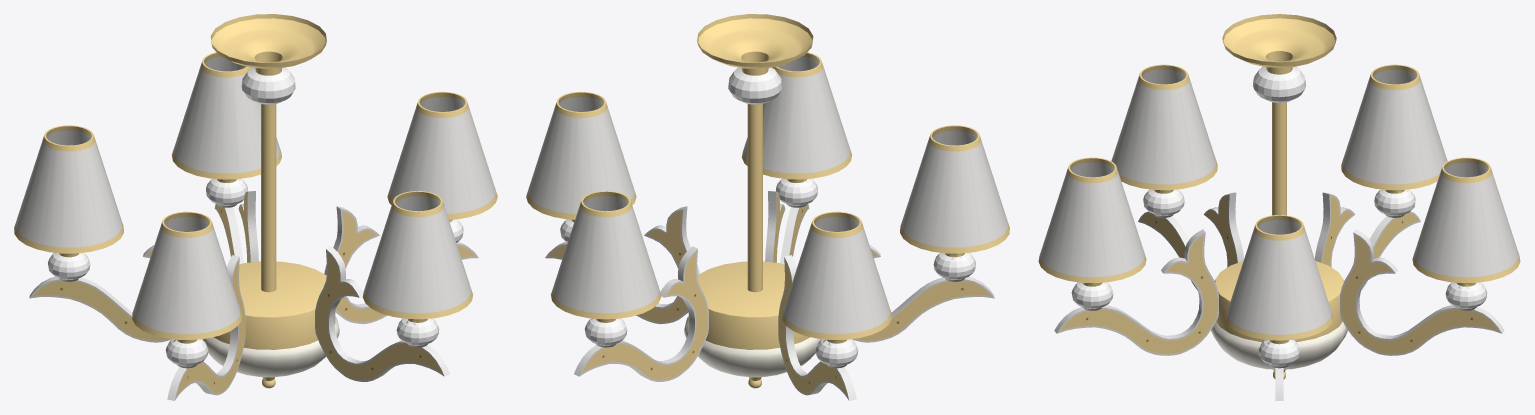
The model's file is LightCeilingRetro03_1.FBX.
3 renders of one model, left to right at view 1: azimuth 30°, elevation 25°; view 2: azimuth 150°, elevation 25°; view 3: azimuth 270°, elevation 25°, orthographic. The views are drawn at different scales.
Parts seen in each view (by area): view 1: LightCeilingRetro03_1; view 2: LightCeilingRetro03_1; view 3: LightCeilingRetro03_1.
Boxes of the visible parts, x1,y1,x2,y2 form: LightCeilingRetro03_1: (14, 14, 497, 400); LightCeilingRetro03_1: (526, 14, 1009, 400); LightCeilingRetro03_1: (1038, 14, 1520, 400).
Size of the model in its own units: 1477 by 1202 by 1536.
